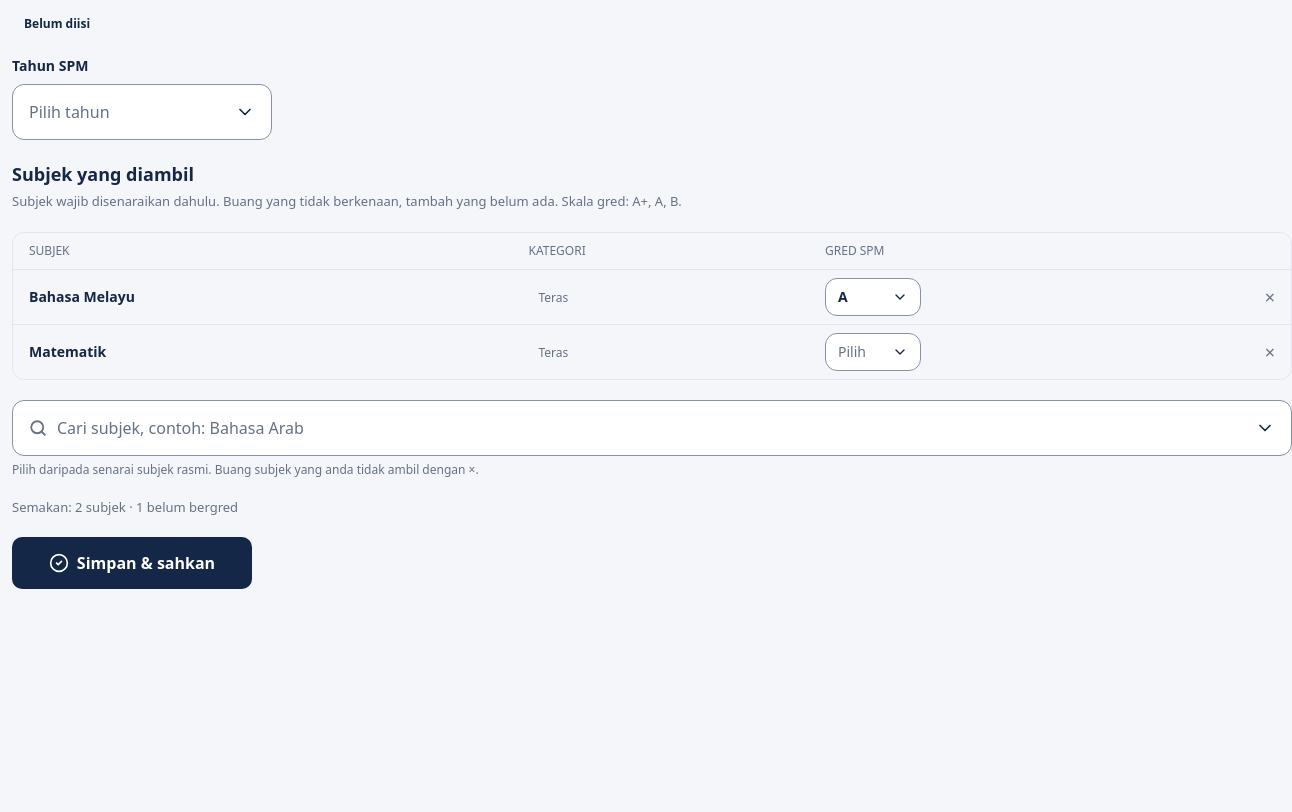
Test: SubjectTable › keeps a subject that is not in the official list under the typed name
The width and height of the screenshot is (1292, 812).
Type "Tasawwuf" into the dropdown named "+ Tambah subjek".
click(651, 428); type("Tasawwuf")  # box [57, 416, 1245, 440]
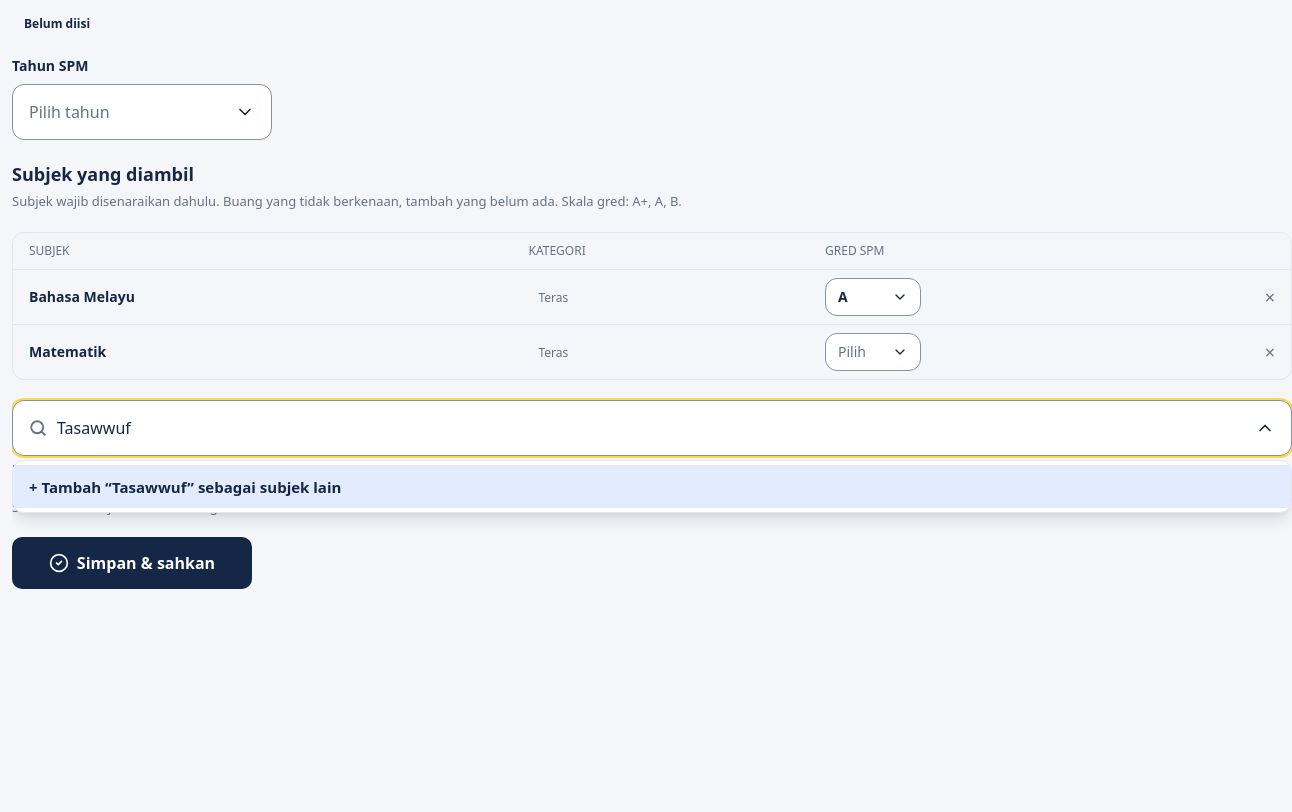
Click the option "+ Tambah “Tasawwuf” sebagai subjek lain".
click(185, 486)  # box [13, 464, 1291, 508]
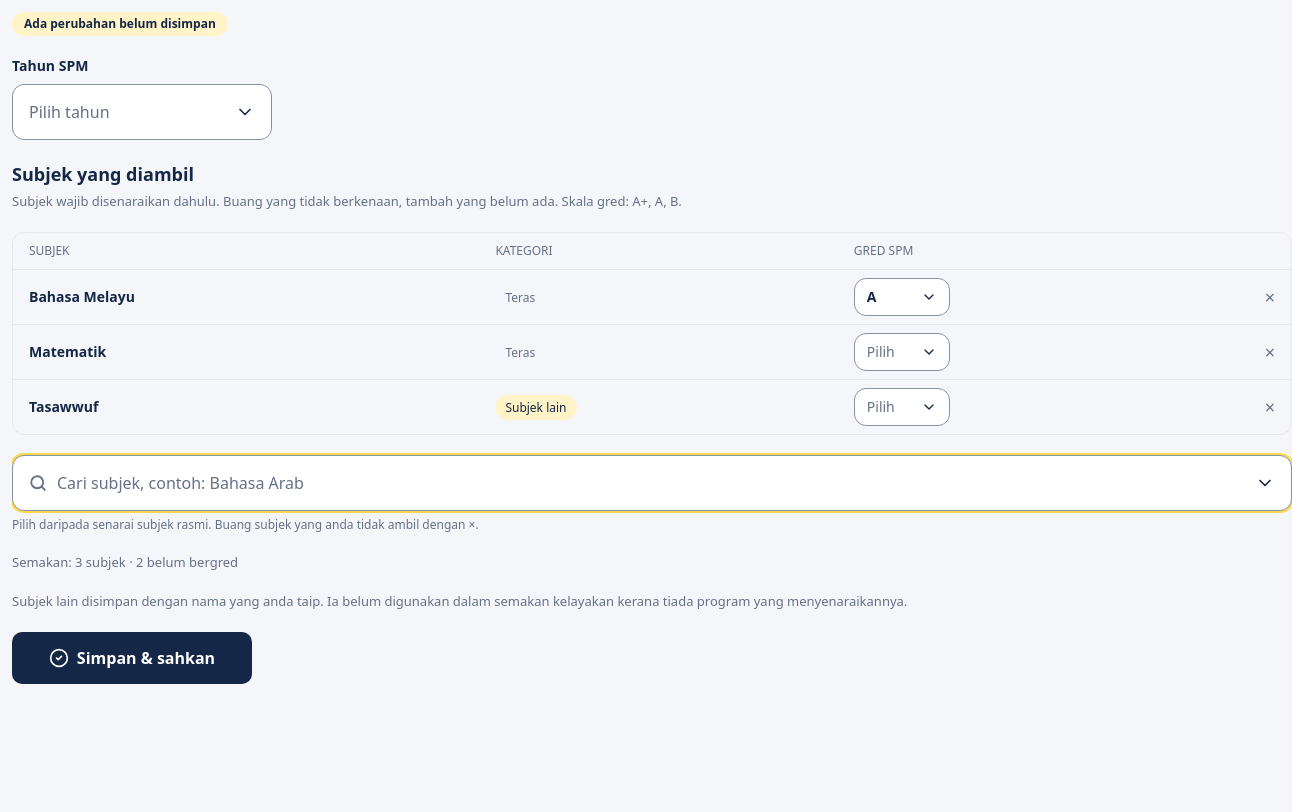
Expected: the column heading "Tasawwuf" is shown, [13, 379, 483, 434]
Expected: the text "Subjek lain" is shown, [495, 394, 576, 420]
